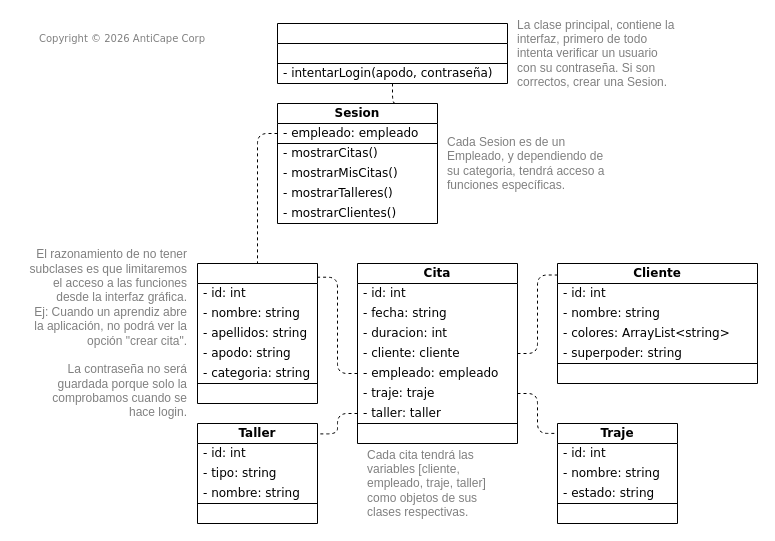
This 775x541 diagram has some shape labels left out. Here are the shapes that lost their labels. From the top down, the box of each, then its label:
(276, 22, 508, 84): Interfaz (main)
(196, 262, 318, 404): Empleado
